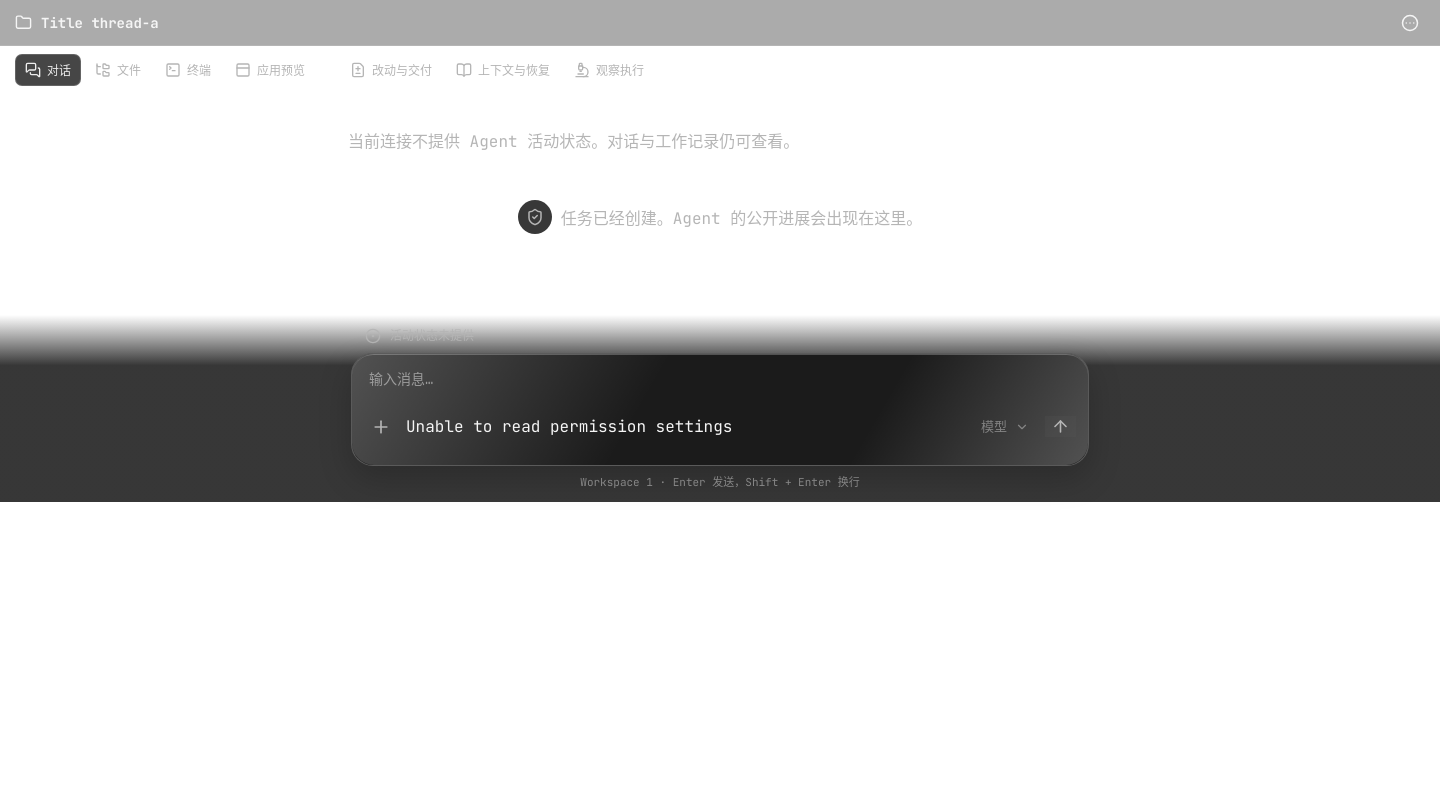
it: V2Conversation › opens the workspace file drawer from the header and closes with focus restored
The width and height of the screenshot is (1440, 810).
Expected: the text "Title thread-a" is shown, top-left (41, 14), bottom-right (159, 32)
Click the button with aria-label "工作区文件" at (118, 70), box top-left (85, 54), bottom-right (151, 86)
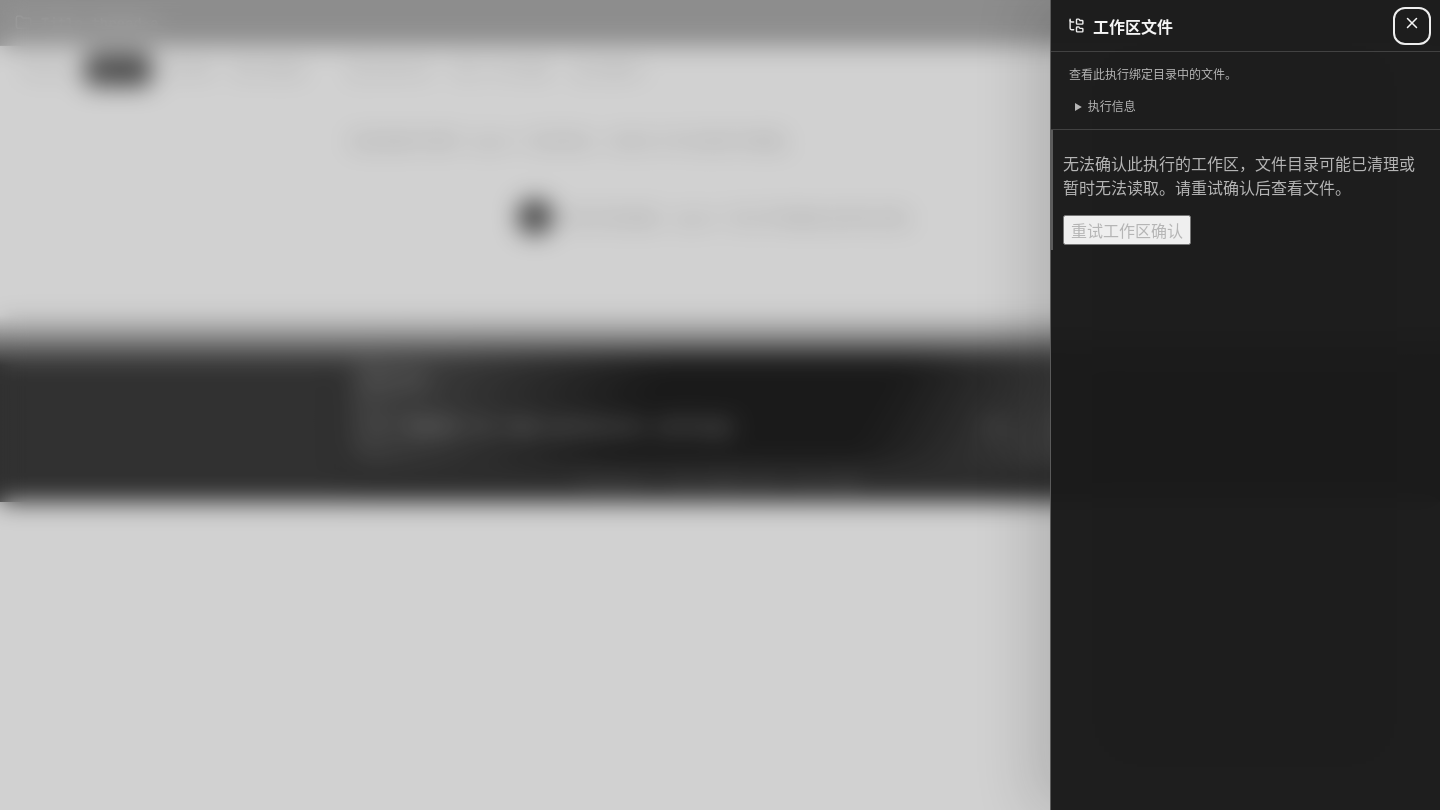
Expected: the text "run-thread-a" is not shown
Now the dialog "工作区文件" is shown, box top-left (1050, 0), bottom-right (1439, 809)
Click the heading "执行信息" at (1112, 107), box top-left (1088, 99), bottom-right (1136, 115)
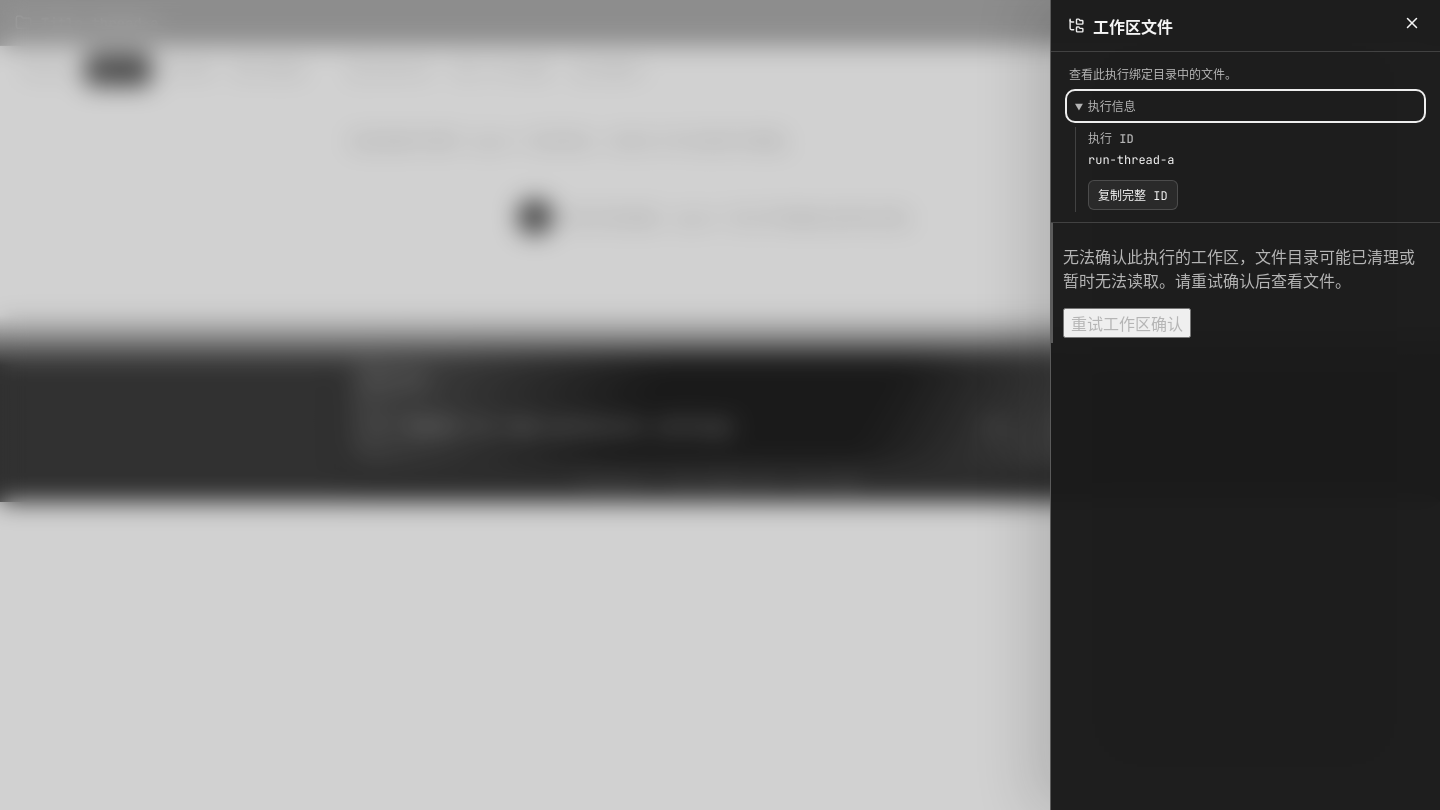
Now the text "run-thread-a" is shown, box top-left (1088, 152), bottom-right (1174, 168)
Click the button named "关闭文件面板" at (1412, 26), box top-left (1397, 10), bottom-right (1427, 40)
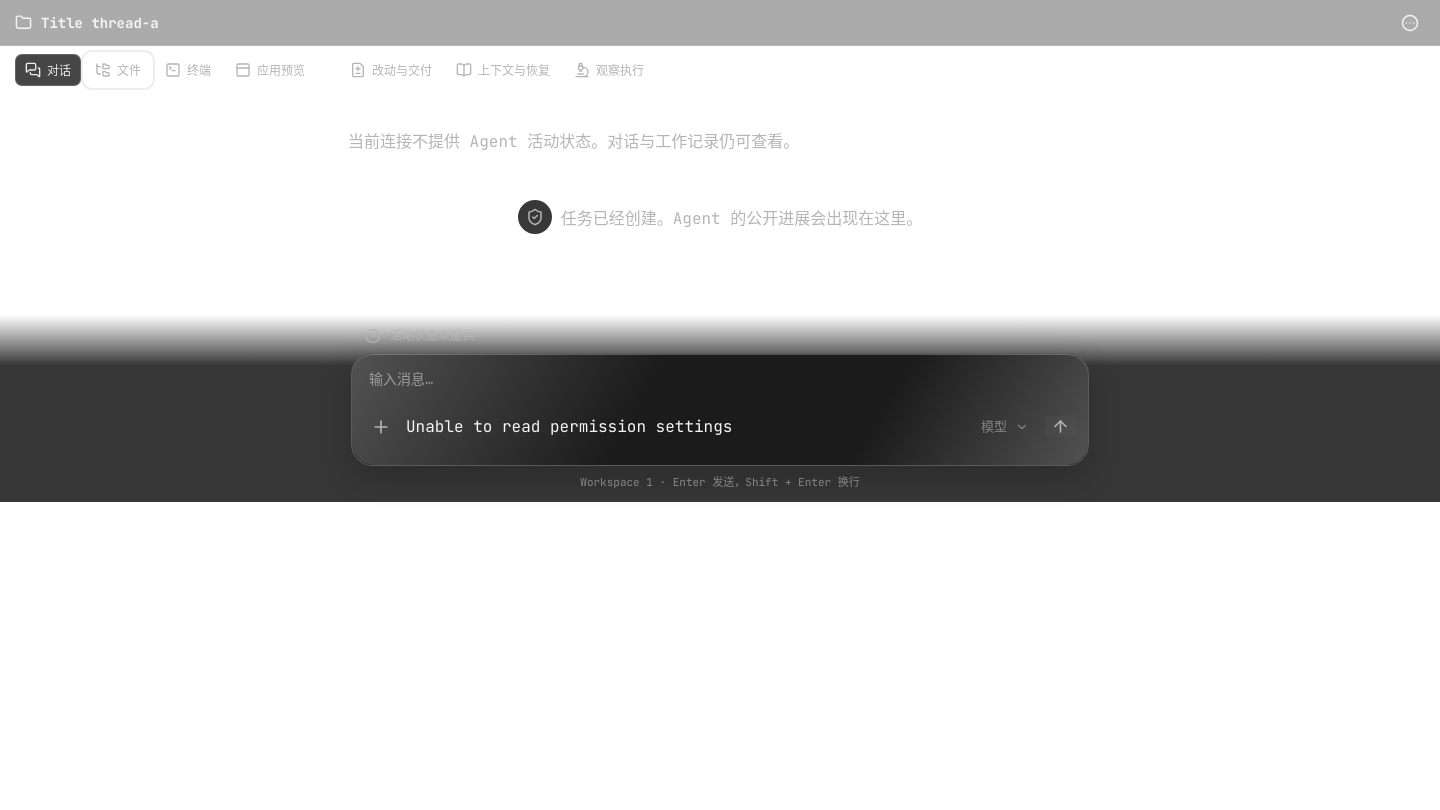
Now the text "工作区文件" is gone
